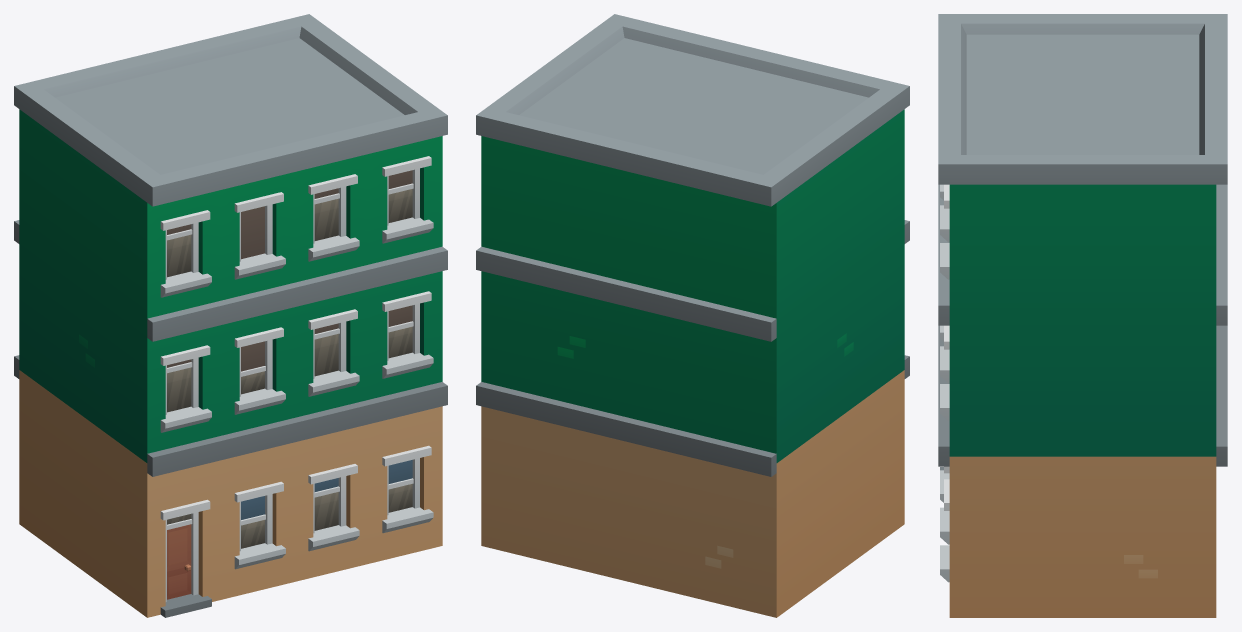
File: building_D_withoutBase.glb
3 views of the same model, side by side, from view 1: azimuth 30°, elevation 25°; view 2: azimuth 150°, elevation 25°; view 3: azimuth 270°, elevation 25° (orthographic). The views are drawn at different scales.
Parts seen in each view (by area): view 1: building_D_withoutBase; view 2: building_D_withoutBase; view 3: building_D_withoutBase.
Part boxes in pixels (x1,y1,x2,y2): building_D_withoutBase: (14, 14, 447, 617); building_D_withoutBase: (476, 14, 909, 617); building_D_withoutBase: (938, 14, 1227, 617).
Size of the model in its own units: 1.61 by 2.25 by 1.3.
1 material, 1 textured.
